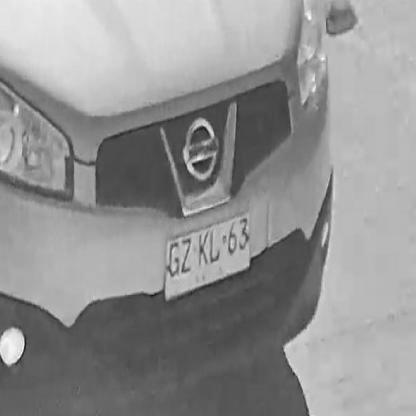Patente: (165, 214, 252, 308)
